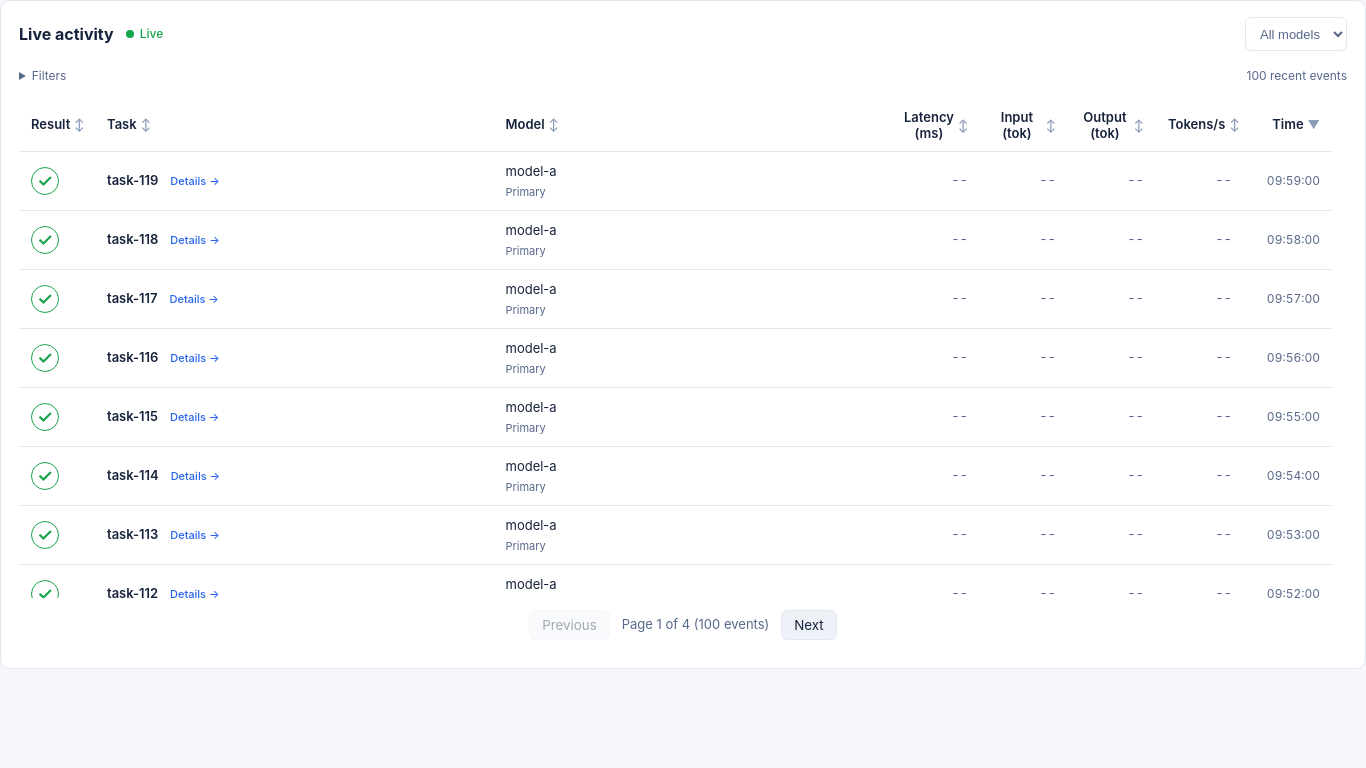
it: LiveEventStream › caps the unfiltered feed at 100 rows and paginates 25 at a time
Expected: the text "Page 1 of 4 (100 events)" is shown, [622,615,769,635]
Expected: the row "✓ task-119 Details → model-a Primary -- -- -- -- 09:59:00" is shown, [19,152,1332,210]
Click the button with aria-label "Next page" at (809, 625), box [781,610,837,640]
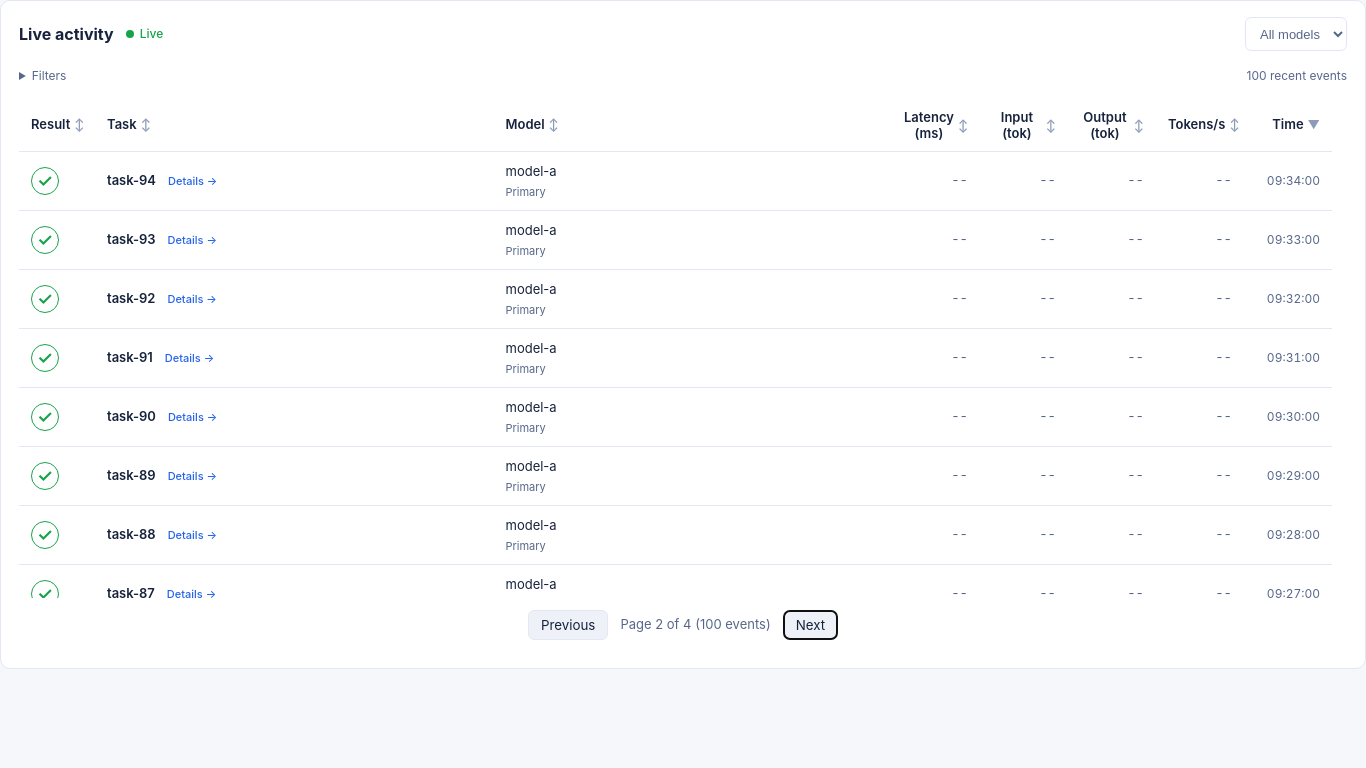
Result: the text "Page 2 of 4 (100 events)" is shown at [620,615,771,635]
Result: the row "✓ task-94 Details → model-a Primary -- -- -- -- 09:34:00" is shown at [19,152,1332,210]
